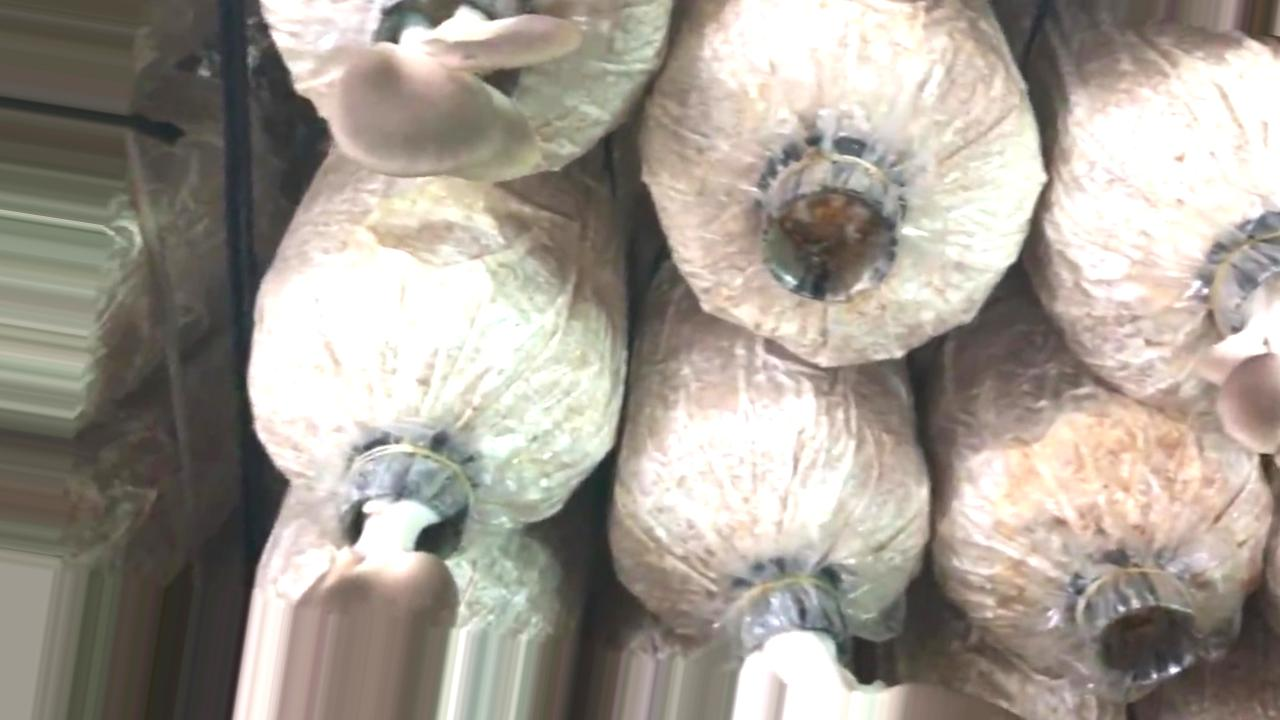nam: (278, 442, 480, 720), (323, 1, 576, 182), (1218, 224, 1280, 454)
